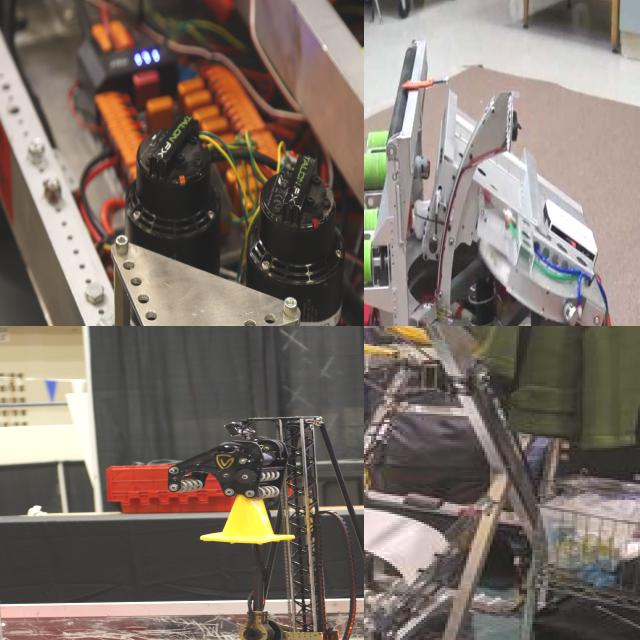FRC-Robots: (0, 0, 364, 326), (364, 35, 640, 326), (111, 367, 364, 640), (364, 326, 557, 640)
